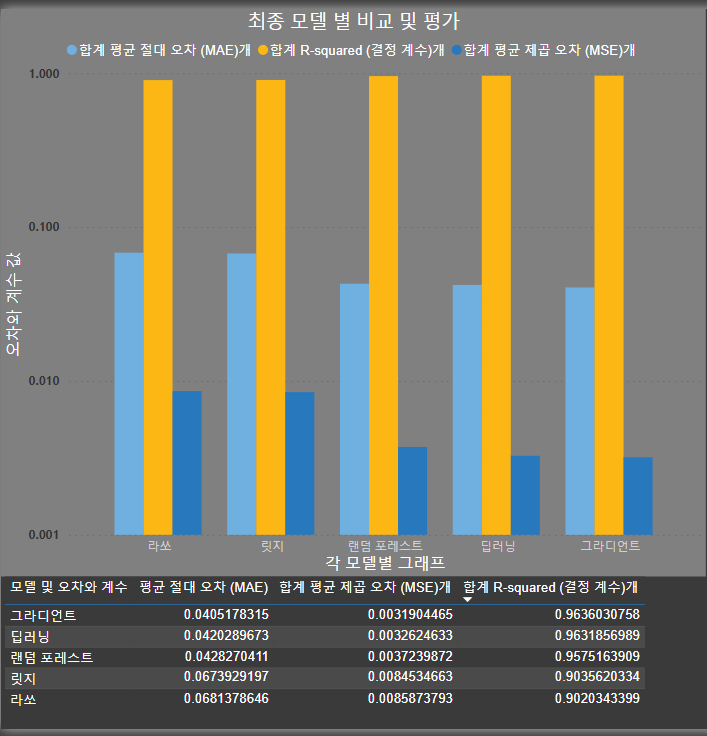

This screenshot's page, from the dashboard's own definition file:
{"tool":"powerbi","page":{"name":"2 페이지","canvas":[1280,720],"ordinal":1},"visuals":[{"type":"clusteredColumnChart","title":"최종 모델 별 비교 및 평가","fields":{"Y":["Sum(Final_predict_model.평균 절대 오차 (MAE))","Sum(Final_predict_model.R-squared (결정 계수))","Sum(Final_predict_model.평균 제곱 오차 (MSE))"],"Category":["Final_predict_model.Column1"]},"box":[287.5,0,705,568.3],"z":0},{"type":"tableEx","fields":{"Values":["Final_predict_model.모델 및 오차와 계수","Final_predict_model.평균 절대 오차 (MAE)","Sum(Final_predict_model.평균 제곱 오차 (MSE))","Sum(Final_predict_model.R-squared (결정 계수))"]},"box":[287.5,568,705,152],"z":1000}]}

Visuals, with their boxes on the page's 1280x720 design canvas (x1, y1, x2, y2). These are canvas units, not pixel positions in the 707x736 screenshot, which may show the page scaled, cropped or inside an application window:
"최종 모델 별 비교 및 평가" clusteredColumnChart: 288,0,992,568
tableEx - Final_predict_model.모델 및 오차와 계수 x Final_predict_model.평균 절대 오차 (MAE): 288,568,992,720
